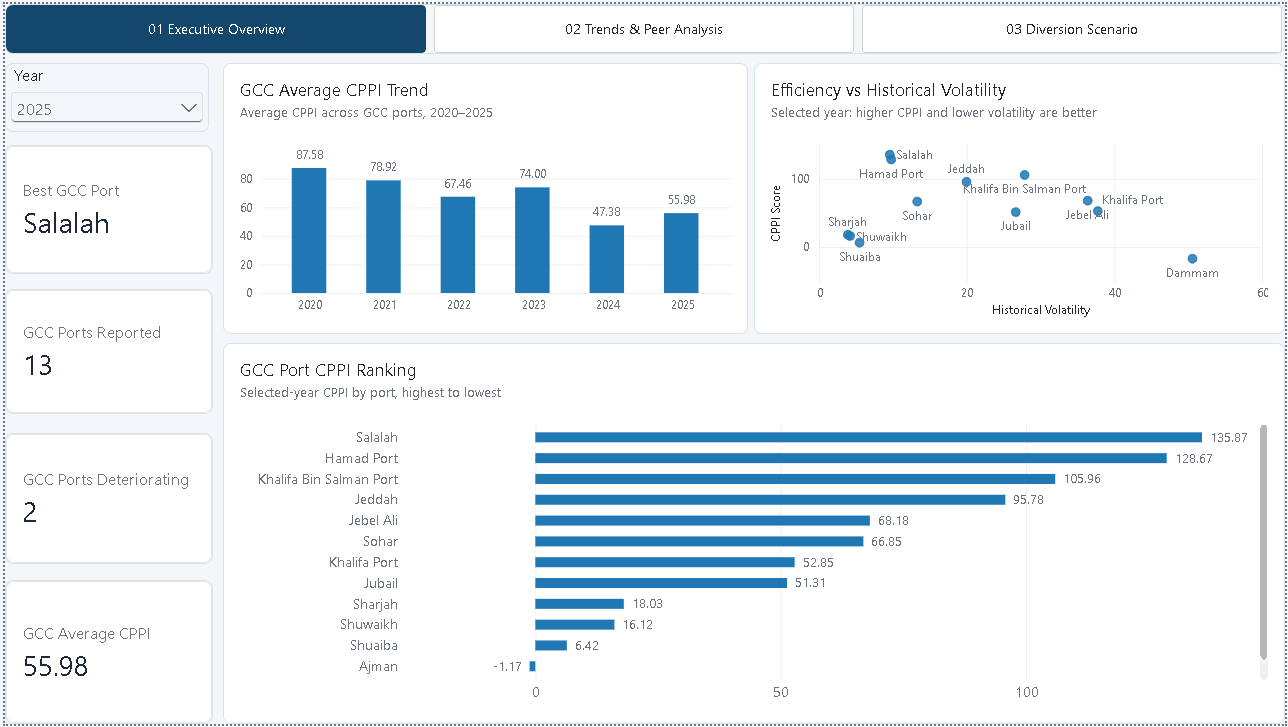

The dashboard page shown, as its layout file describes it:
{"tool":"powerbi","page":{"name":"01 Executive Overview","canvas":[1280,720],"ordinal":2},"visuals":[{"type":"cardVisual","fields":{"Data":["Calculations.GCC Average CPPI"]},"box":[0,576.2,207.5,143.8],"z":0},{"type":"cardVisual","fields":{"Data":["Calculations.GCC Ports Deteriorating"]},"box":[0,428.8,207.5,131.2],"z":1000},{"type":"cardVisual","fields":{"Data":["Calculations.Best GCC Port"]},"box":[0,141.2,207.5,128.8],"z":2000},{"type":"slicer","fields":{"Values":["dim_Year.Year"]},"box":[0,58.8,203.8,68.8],"z":3000},{"type":"cardVisual","fields":{"Data":["Calculations.GCC Ports Reported"]},"box":[0,285,207.5,125],"z":4000},{"type":"clusteredColumnChart","title":"GCC Average CPPI Trend","fields":{"Category":["dim_Year.Year"],"Y":["Calculations.CPPI Score"]},"box":[217.5,58.8,525,271.2],"z":5000},{"type":"clusteredBarChart","title":"GCC Port CPPI Ranking ","fields":{"Category":["dim_Port.Port"],"Y":["Calculations.Latest CPPI"]},"box":[217.5,338.8,1062.5,381.2],"z":6000},{"type":"scatterChart","title":"Efficiency vs Historical Volatility","fields":{"Category":["dim_Port.Port"],"X":["Calculations.CPPI Volatility"],"Y":["Calculations.Latest CPPI"]},"box":[748.8,58.8,531.2,271.2],"z":7000},{"type":"pageNavigator","box":[0,0,1280,50],"z":8000}]}

Visuals, with their boxes in screenshot pixels (x1, y1, x2, y2), scaled from the page's 1280x720 canvas onto the 1288x727 screenshot:
cardVisual - Calculations.GCC Average CPPI: Rect(0, 582, 209, 726)
cardVisual - Calculations.GCC Ports Deteriorating: Rect(0, 433, 209, 565)
cardVisual - Calculations.Best GCC Port: Rect(0, 143, 209, 273)
slicer - dim_Year.Year: Rect(0, 59, 205, 129)
cardVisual - Calculations.GCC Ports Reported: Rect(0, 288, 209, 414)
"GCC Average CPPI Trend" clusteredColumnChart: Rect(219, 59, 747, 333)
"GCC Port CPPI Ranking " clusteredBarChart: Rect(219, 342, 1287, 726)
"Efficiency vs Historical Volatility" scatterChart: Rect(753, 59, 1287, 333)
pageNavigator: Rect(0, 0, 1287, 50)
